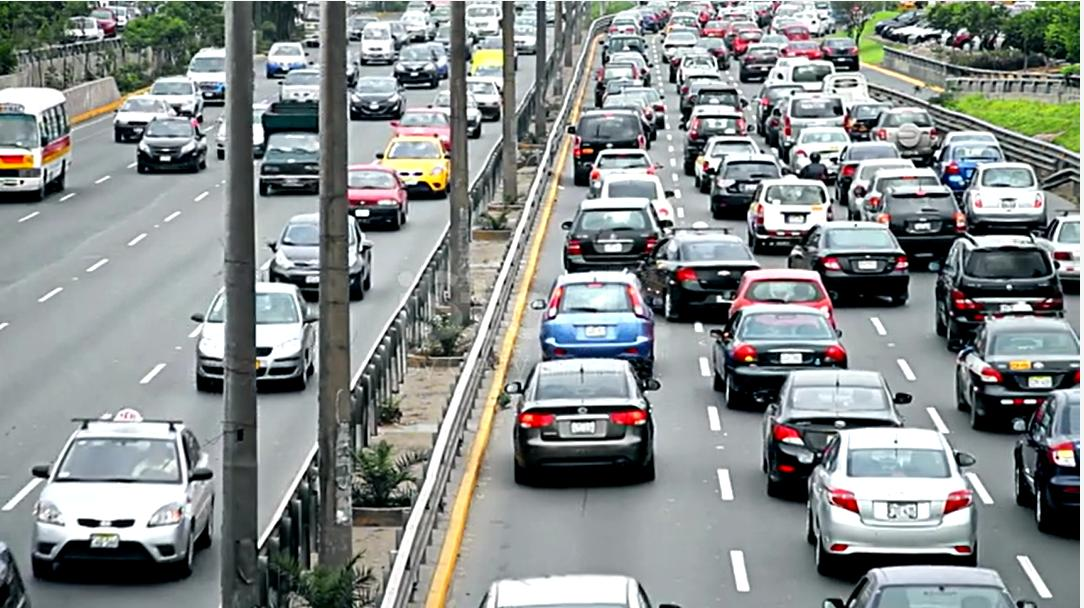bus: (0, 54, 76, 220)
car: (33, 383, 225, 585), (189, 262, 368, 418), (796, 423, 995, 563), (489, 355, 680, 496), (927, 311, 1084, 442), (751, 353, 890, 479), (701, 296, 840, 411), (925, 227, 1058, 347), (769, 215, 920, 303), (549, 183, 670, 287), (272, 191, 371, 315), (531, 275, 668, 363), (648, 225, 759, 322), (329, 156, 435, 251), (123, 109, 230, 199), (738, 173, 843, 252), (963, 153, 1066, 230), (873, 181, 966, 266), (559, 106, 650, 185), (371, 123, 460, 203), (251, 119, 344, 190), (703, 145, 778, 226), (347, 73, 412, 130)
